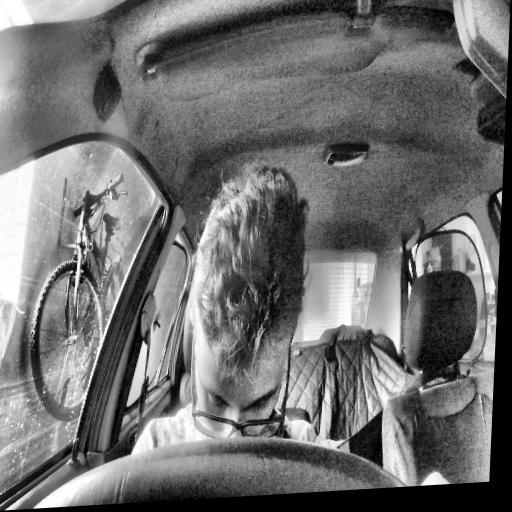drowsy: (181, 154, 315, 458)
